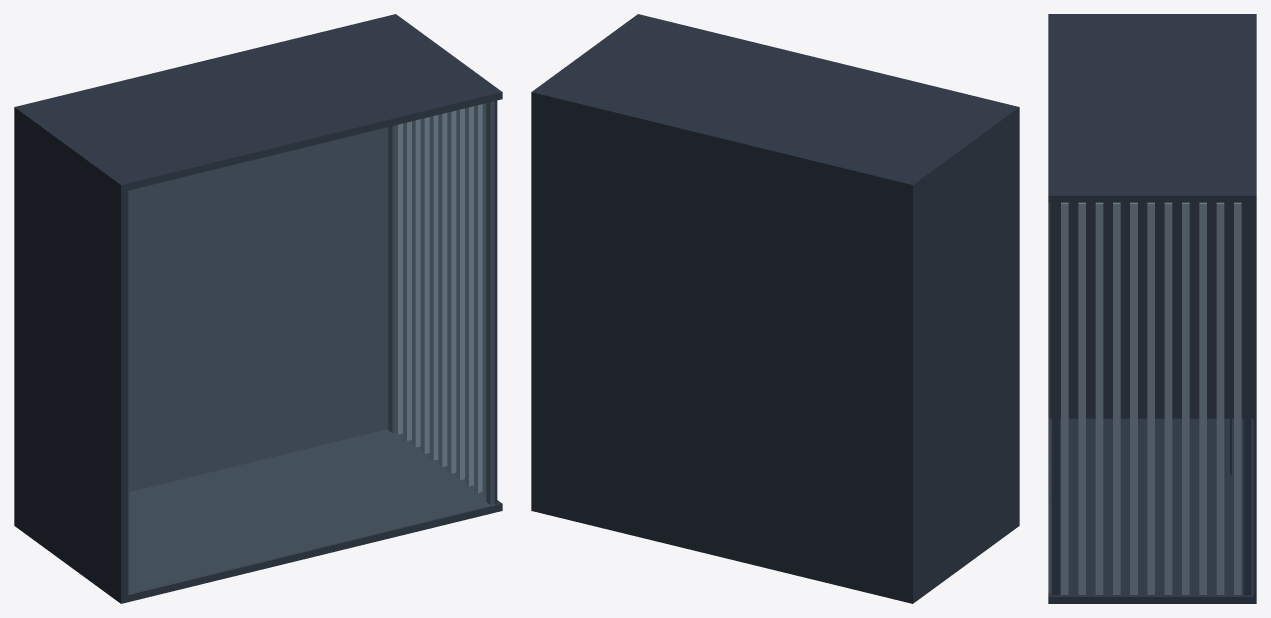
The model's file is case-north-reference.glb.
3 views of the same model, side by side, from view 1: azimuth 30°, elevation 25°; view 2: azimuth 150°, elevation 25°; view 3: azimuth 270°, elevation 25° (orthographic). The views are drawn at different scales.
Parts seen in each view (by area): view 1: Side panel, Rear, Motherboard tray, Top, Base, Back panel, Illustrative front slat (×11), Frame rail (×3); view 2: Back panel, Rear, Top; view 3: Top, Illustrative front slat (×11), Rear, Base, Frame rail (×2), Back panel, Side panel, Motherboard tray.
Part boxes in pixels (<box>): Side panel: <box>128,101,494,594</box>; Rear: <box>15,106,127,603</box>; Motherboard tray: <box>129,143,320,421</box>; Top: <box>15,15,502,191</box>; Base: <box>15,429,502,603</box>; Back panel: <box>14,14,396,525</box>; Illustrative front slat (×11): <box>394,103,486,498</box>; Frame rail (×3): <box>120,17,497,592</box>; Back panel: <box>531,91,914,603</box>; Rear: <box>907,105,1019,601</box>; Top: <box>533,14,1019,191</box>; Top: <box>1048,14,1254,202</box>; Illustrative front slat (×11): <box>1061,202,1241,594</box>; Rear: <box>1048,14,1254,418</box>; Base: <box>1048,418,1254,603</box>; Frame rail (×2): <box>1052,190,1251,595</box>; Back panel: <box>1253,14,1256,603</box>; Side panel: <box>1048,203,1049,592</box>; Motherboard tray: <box>1230,202,1231,475</box>.
Size of the model in its own units: 0.447 by 0.469 by 0.2165.
